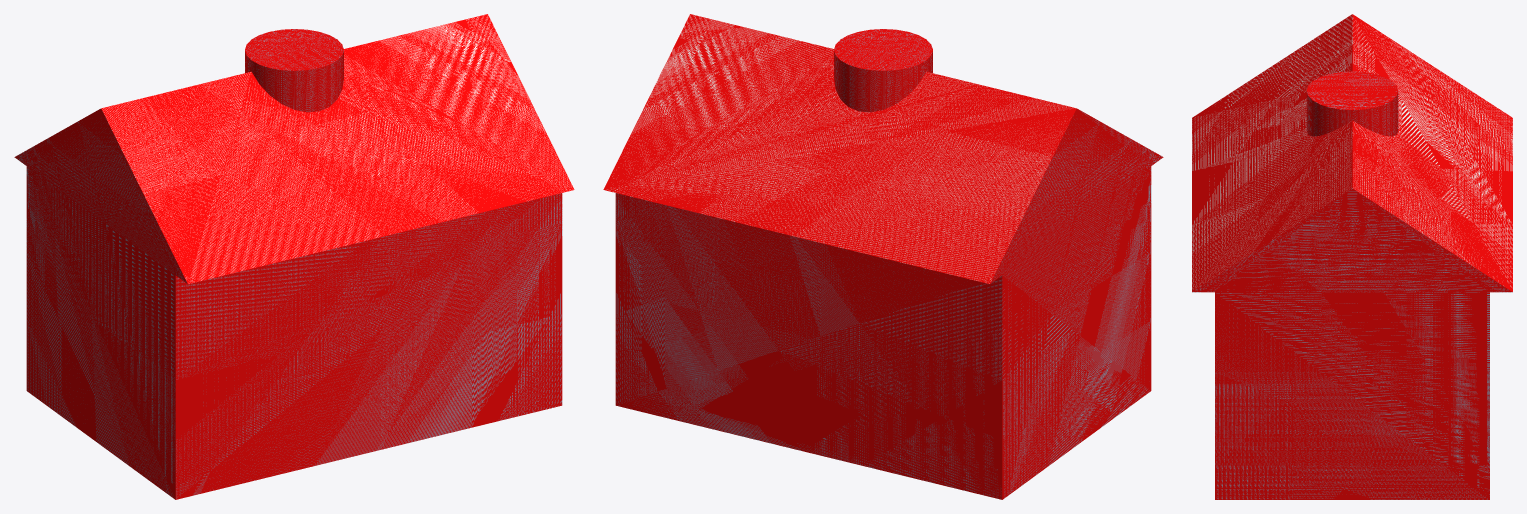
File: Hotel.fbx
3 views of the same model, side by side, from view 1: azimuth 30°, elevation 25°; view 2: azimuth 150°, elevation 25°; view 3: azimuth 270°, elevation 25° (orthographic). The views are drawn at different scales.
Parts seen in each view (by area): view 1: Model; view 2: Model; view 3: Model.
Part boxes in pixels (x1,y1,x2,y2): Model: [14, 14, 574, 499]; Model: [603, 14, 1163, 499]; Model: [1192, 14, 1512, 499].
Size of the model in its own units: 13.06 by 11.24 by 10.15.
